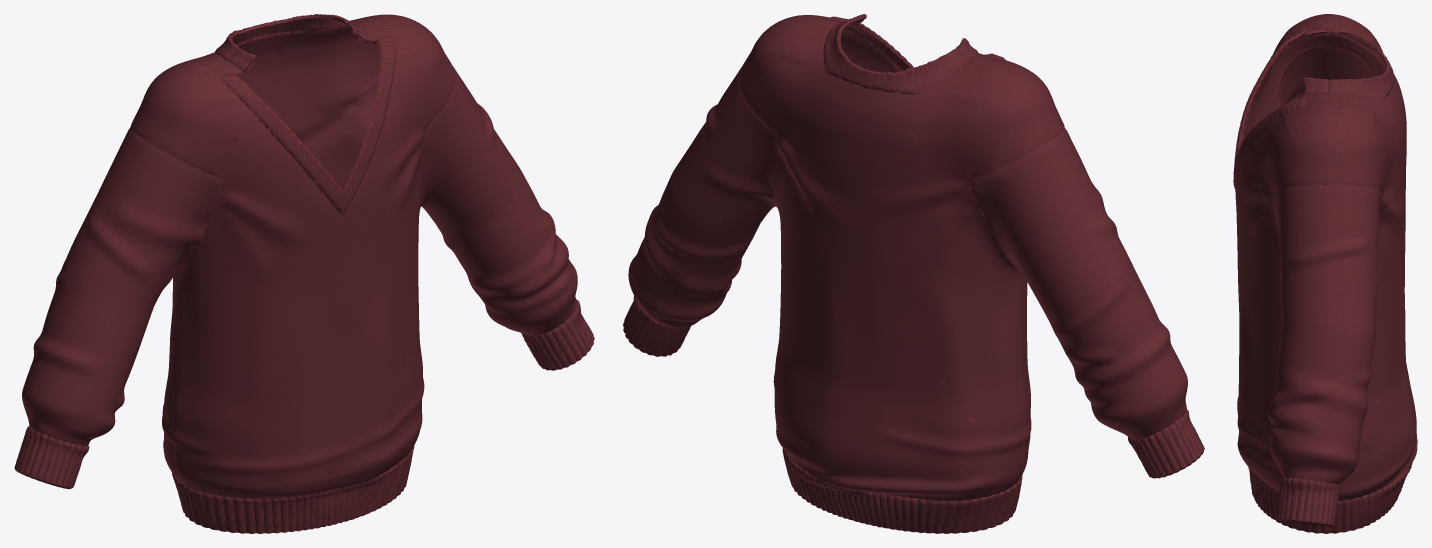
The model's file is 02_jersey_pico_pbr.glb.
3 renders of one model, left to right at view 1: azimuth 30°, elevation 25°; view 2: azimuth 150°, elevation 25°; view 3: azimuth 270°, elevation 25°, orthographic. The views are drawn at different scales.
Visible parts, largest first — view 1: Camiseta PBR; view 2: Camiseta PBR; view 3: Camiseta PBR.
Part boxes in pixels (bbox=[...]): Camiseta PBR: bbox=[14, 14, 594, 533]; Camiseta PBR: bbox=[623, 14, 1204, 533]; Camiseta PBR: bbox=[1233, 14, 1417, 533].
Bounding box in the file's own units: 0.9878 × 0.764 × 0.2937.
1 material, 1 textured.
